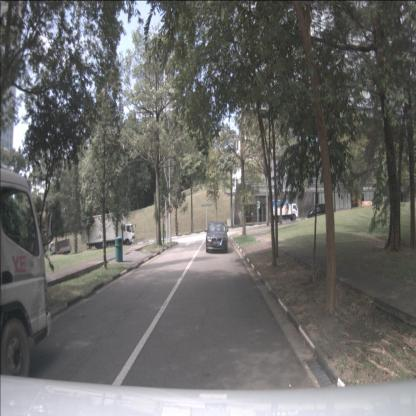vehicle-car: (206, 221, 228, 253), (307, 204, 328, 218)
vehicle-truck: (0, 168, 50, 385), (84, 212, 135, 249), (272, 199, 298, 221), (50, 238, 70, 258)
